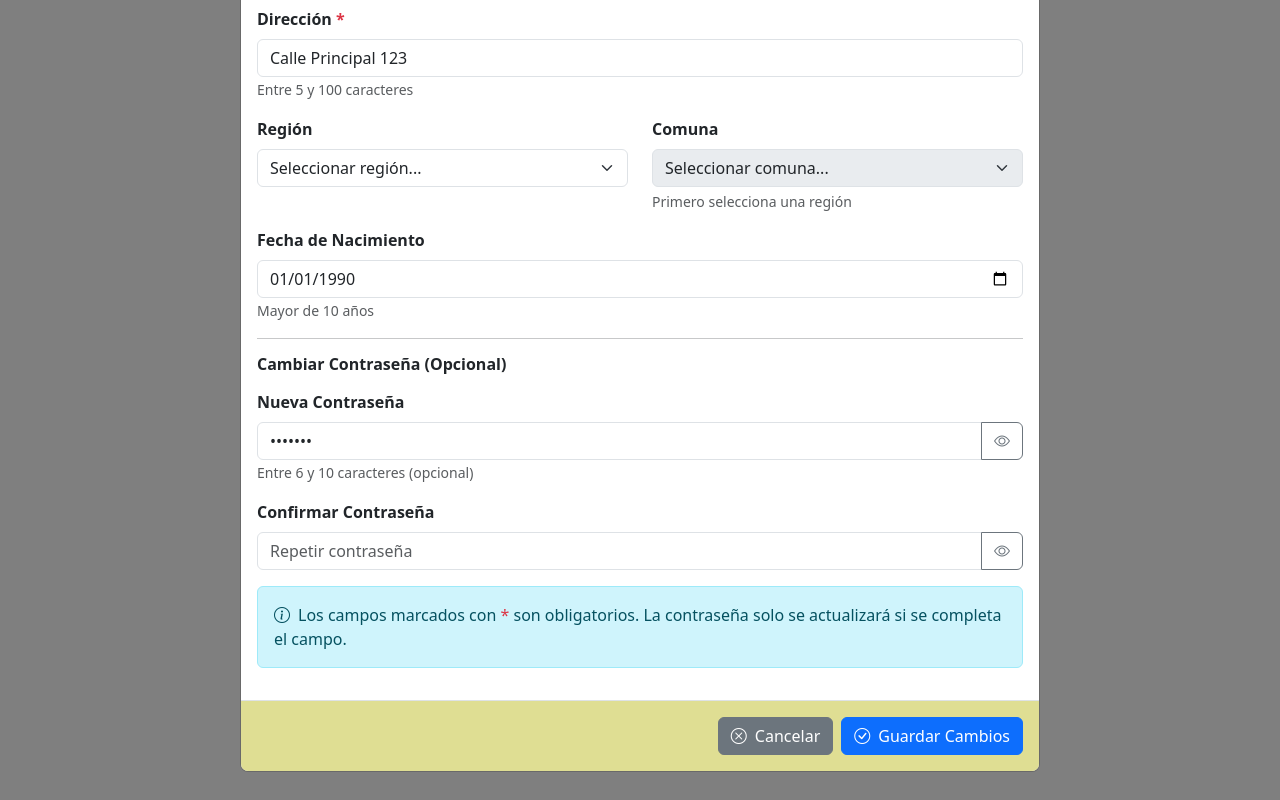
Test: PerfilModal › debería mostrar/ocultar contraseña al hacer clic en el botón
(page scrolled)
Step 1. Click the 1st button → (1002, 441), box [981, 422, 1023, 460]
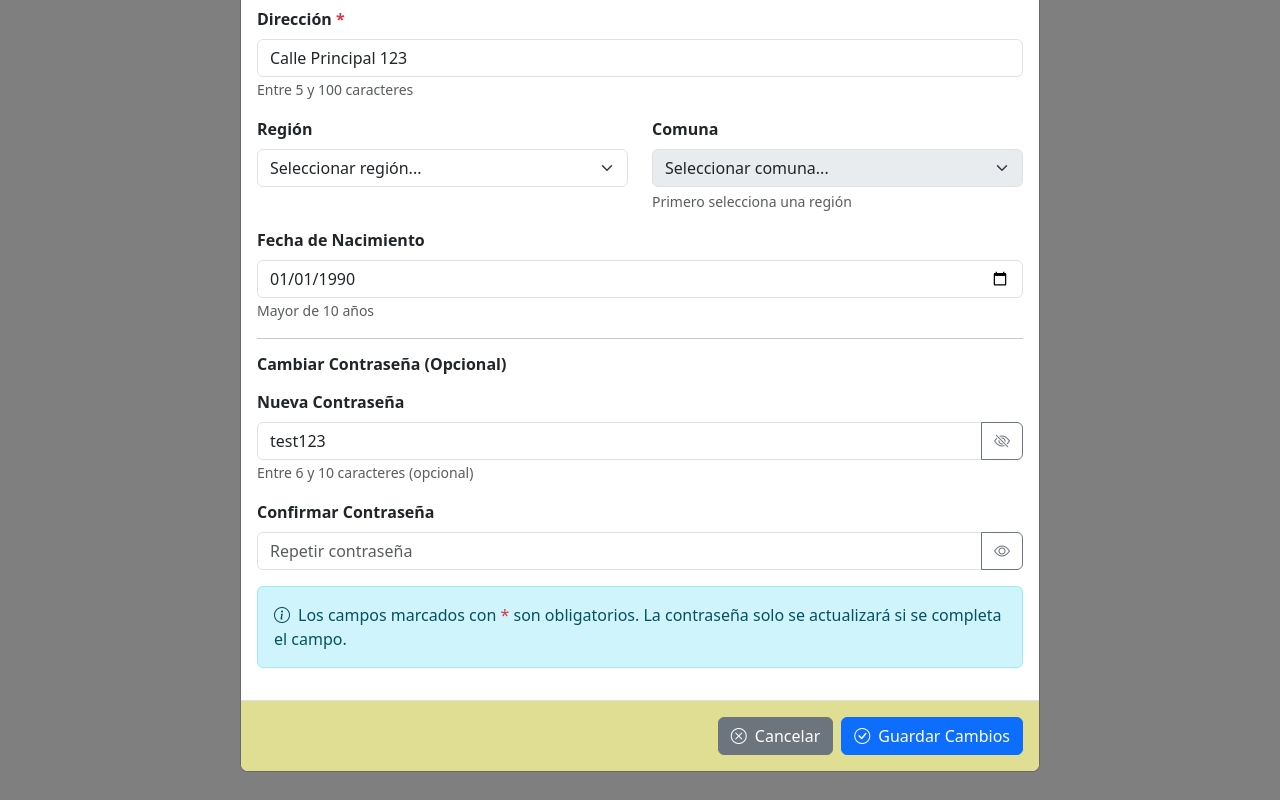
Check: the field with placeholder "Dejar vacío para mantener la actual" below "Nueva Contraseña" shows its text, box [257, 422, 982, 460]
